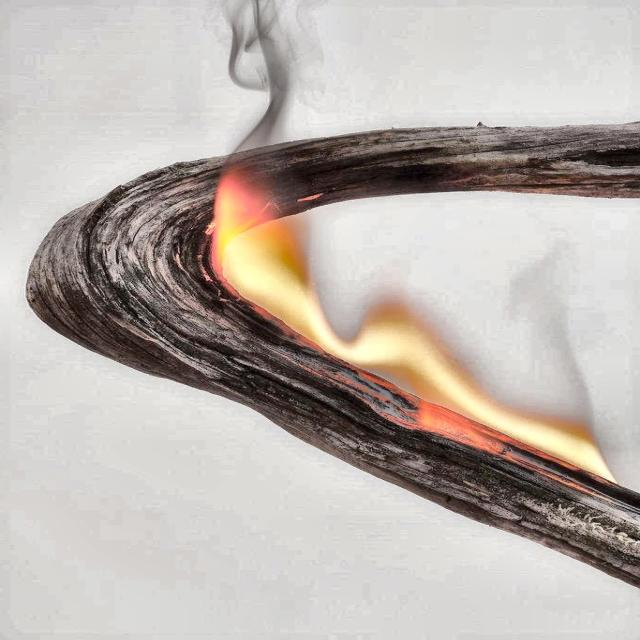fire: (202, 115, 595, 399)
